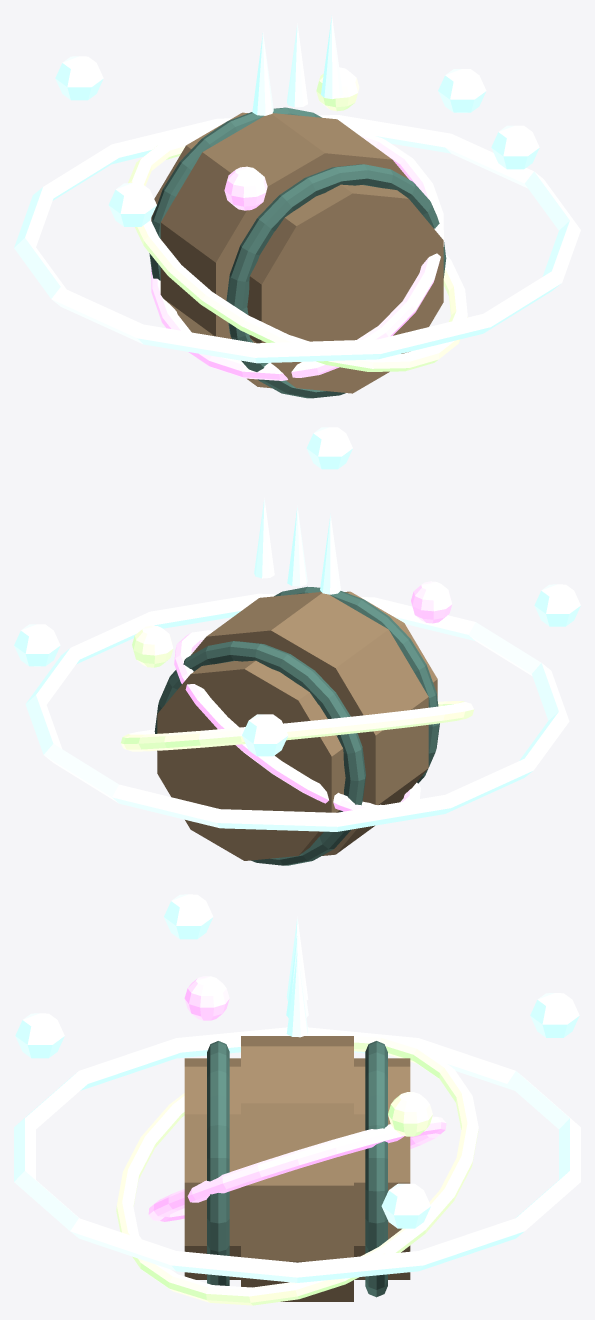
File: evolved_goblin_barrel.glb
3 views of the same model, one above another, from view 1: azimuth 30°, elevation 25°; view 2: azimuth 150°, elevation 25°; view 3: azimuth 270°, elevation 25° (orthographic). The views are drawn at different scales.
Parts seen in each view (by area): view 1: evolved_goblin_barrel; view 2: evolved_goblin_barrel; view 3: evolved_goblin_barrel.
Part boxes in pixels (x1=…): evolved_goblin_barrel: x1=14, y1=15, x2=580, y2=398; evolved_goblin_barrel: x1=14, y1=427, x2=580, y2=865; evolved_goblin_barrel: x1=14, y1=894, x2=580, y2=1305.
Size of the model in its own units: 2.83 by 1.93 by 2.76.
